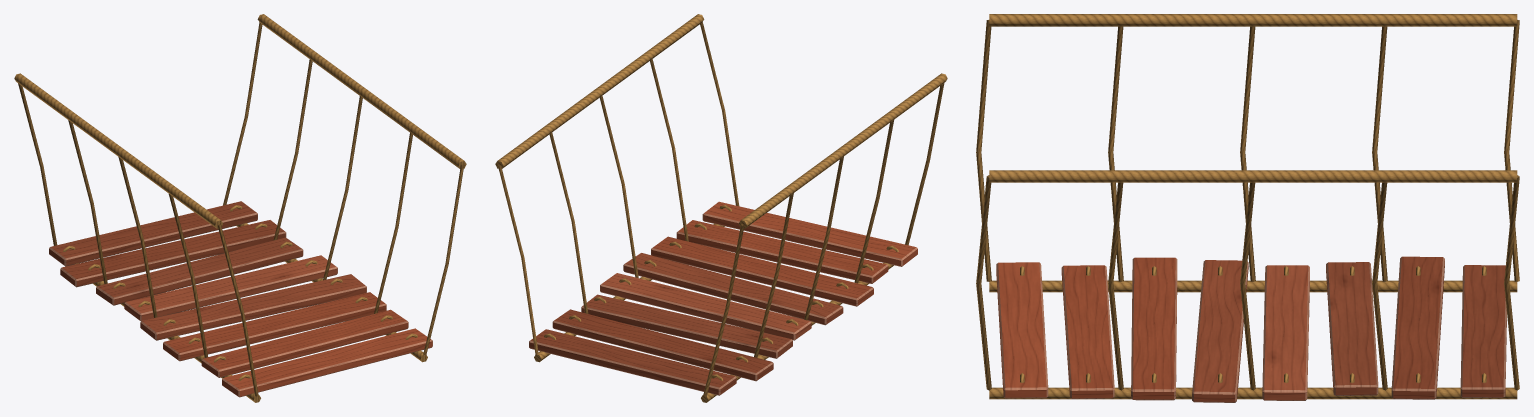
Rendered from rope_bridge_piece.glb.
3 renders of one model, left to right at view 1: azimuth 30°, elevation 25°; view 2: azimuth 150°, elevation 25°; view 3: azimuth 270°, elevation 25°, orthographic. The views are drawn at different scales.
Parts seen in each view (by area): view 1: rope_bridge; view 2: rope_bridge; view 3: rope_bridge.
Part boxes in pixels (x1,y1,x2,y2): rope_bridge: (14,14,466,402); rope_bridge: (495,14,947,402); rope_bridge: (976,14,1519,402).
Size of the model in its own units: 1.45 by 1.05 by 2.06.
Materials: 2 (2 with a texture image).
